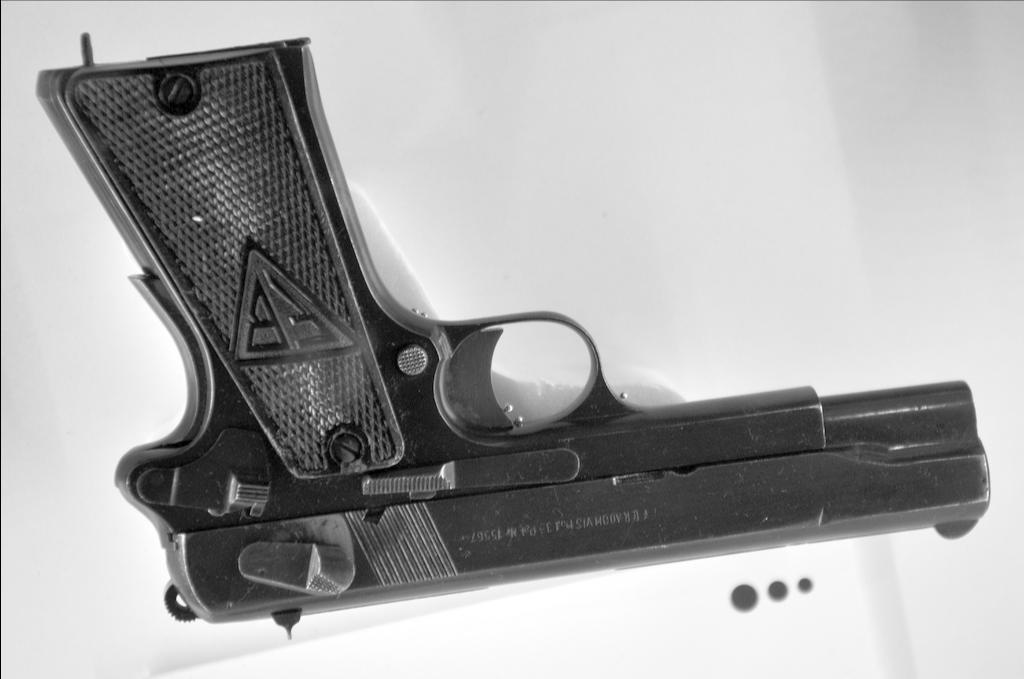gun: (29, 32, 992, 625)
